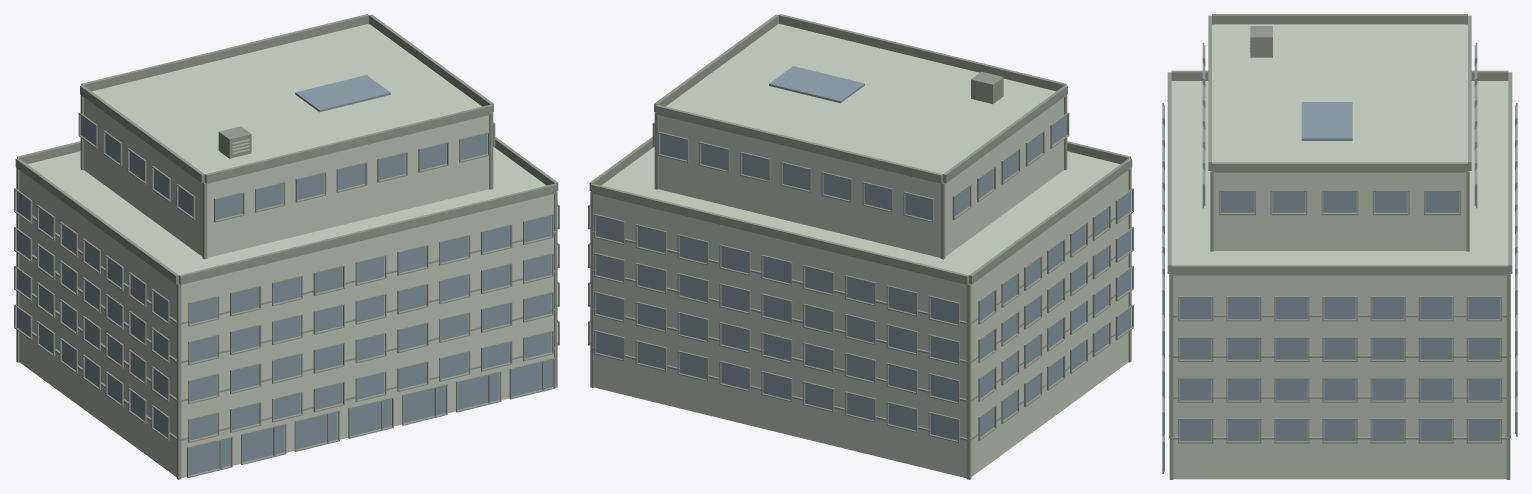
File: lot_4x3.glb
The picture shows the model from 3 angles, left to right: view 1: azimuth 30°, elevation 25°; view 2: azimuth 150°, elevation 25°; view 3: azimuth 270°, elevation 25°; orthographic projection. The views are drawn at different scales.
Visible parts, largest first — view 1: lot_4x3; view 2: lot_4x3; view 3: lot_4x3.
Boxes of the visible parts, x1=… form: lot_4x3: x1=14, y1=14, x2=559, y2=479; lot_4x3: x1=588, y1=14, x2=1133, y2=479; lot_4x3: x1=1162, y1=14, x2=1517, y2=479.
Bounding box in the file's own units: 31.74 × 22.5 × 23.74.
